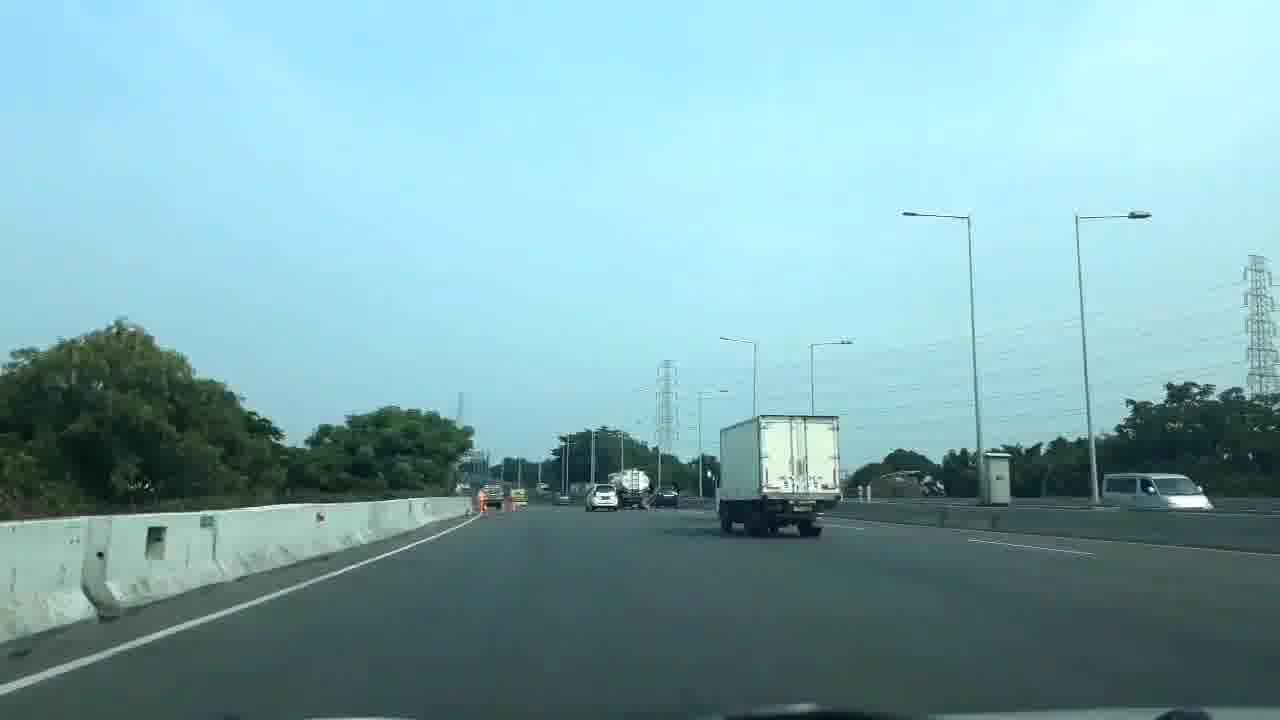plate_positive: (791, 505, 814, 512)
